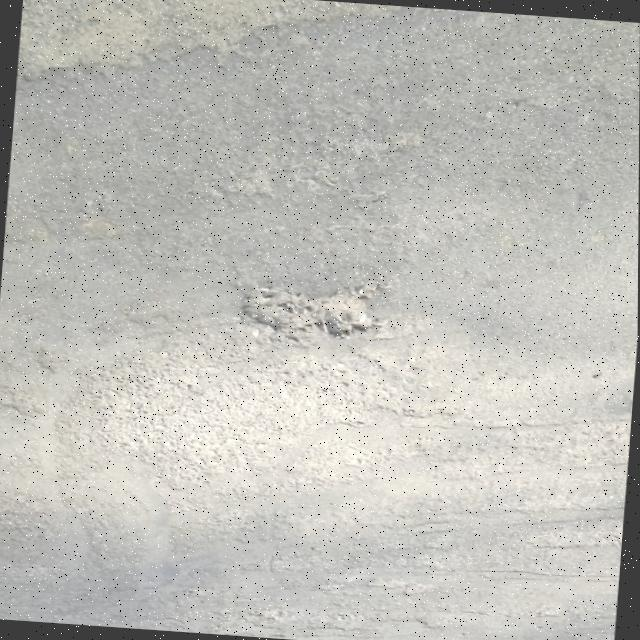pothole: (236, 269, 381, 349)
